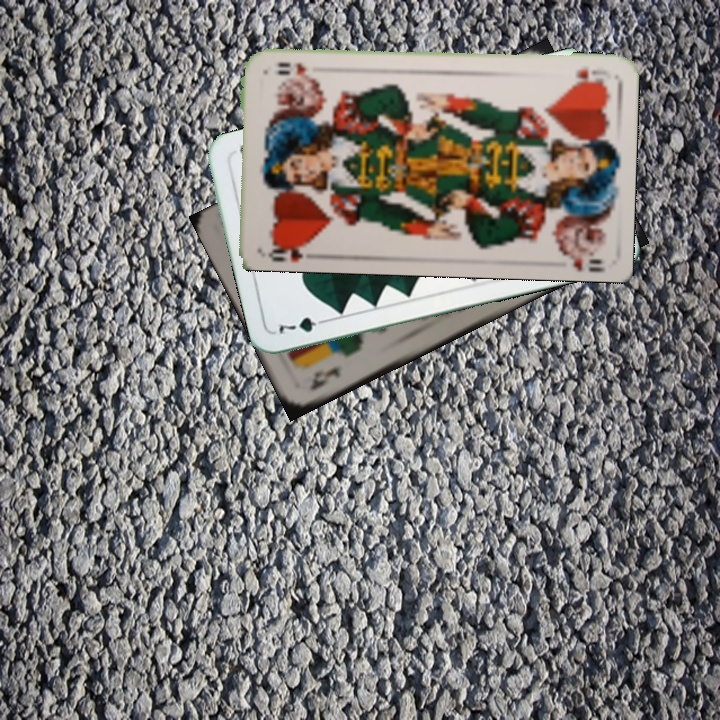EK: (305, 361, 344, 393)
G7: (272, 313, 332, 337)
HO: (264, 235, 317, 263), (567, 64, 613, 87)
